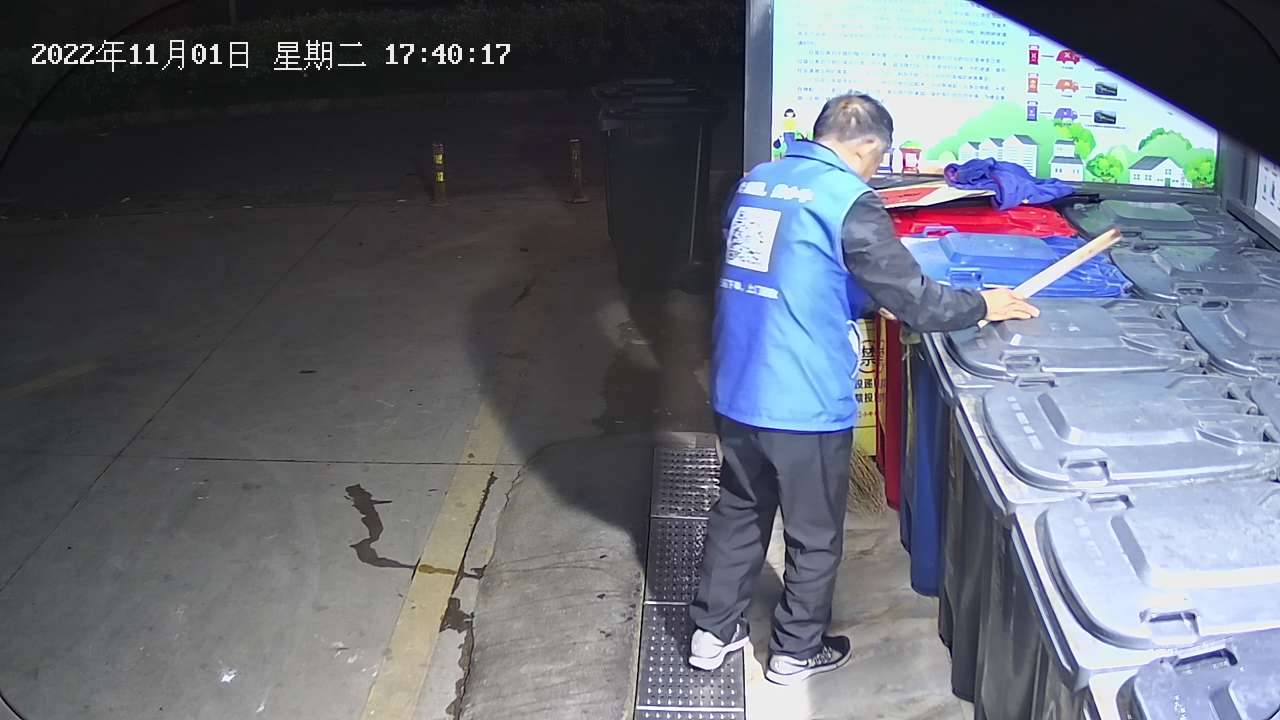worker: (687, 88, 1041, 685)
